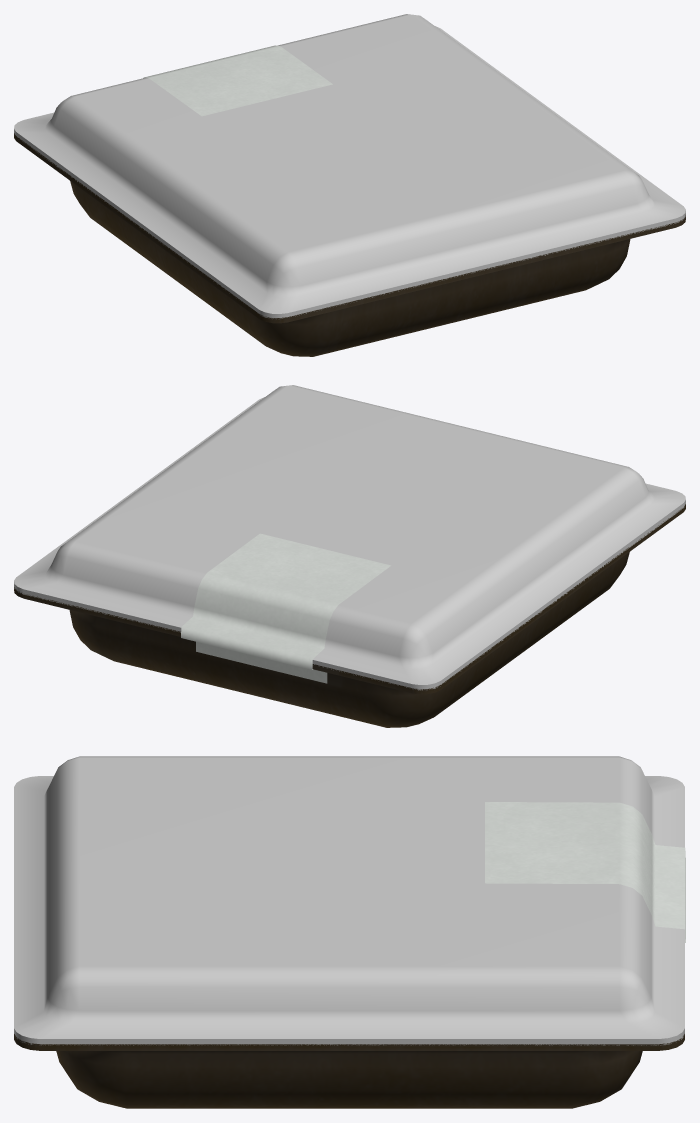
The model's file is SM_Bento_02.fbx.
The picture shows the model from 3 angles, top to bottom: view 1: azimuth 30°, elevation 25°; view 2: azimuth 150°, elevation 25°; view 3: azimuth 270°, elevation 25°; orthographic projection. The views are drawn at different scales.
Parts seen in each view (by area): view 1: SM_Bento_02_LOD0; view 2: SM_Bento_02_LOD0; view 3: SM_Bento_02_LOD0.
Boxes of the visible parts, x1,y1,x2,y2 form: SM_Bento_02_LOD0: (14,14,685,356); SM_Bento_02_LOD0: (14,385,685,727); SM_Bento_02_LOD0: (14,756,685,1108).
Bounding box in the file's own units: 16.74 × 18.06 × 4.66.
